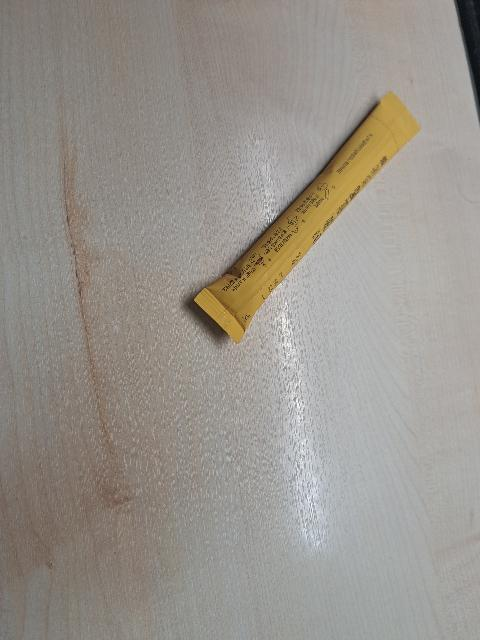mix_coffee: (178, 53, 429, 362)
